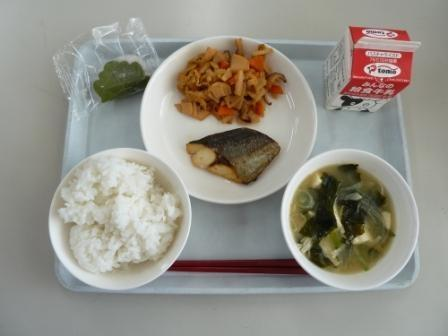Fish: (181, 130, 288, 190)
Milk: (325, 20, 417, 107)
Rice: (50, 152, 195, 287)
Soups: (278, 147, 414, 286)
vegetable based cooked food: (163, 37, 296, 119)
